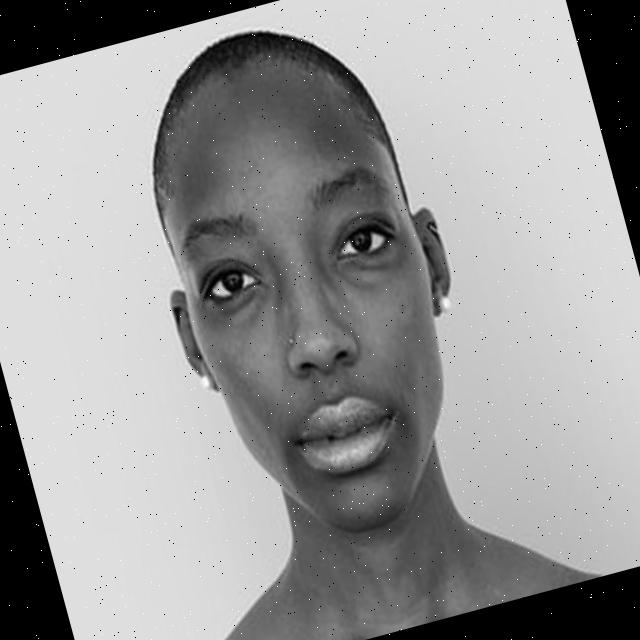Neutral: (135, 47, 488, 559)
